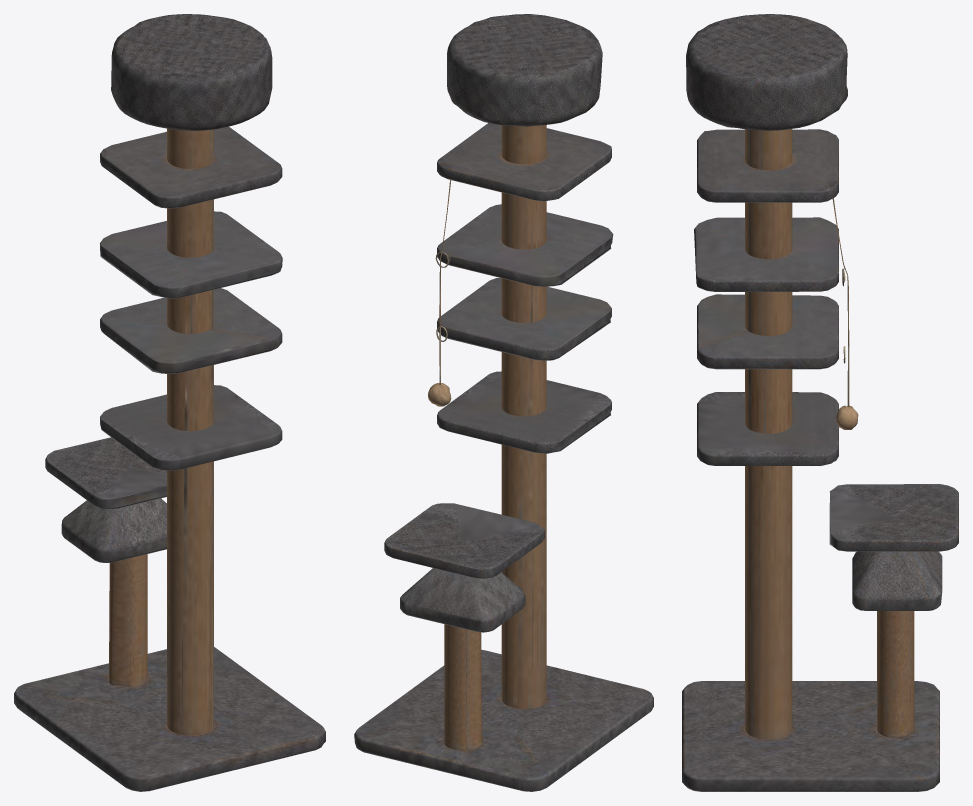
The model's file is office-cat-tree.glb.
The picture shows the model from 3 angles, left to right: view 1: azimuth 30°, elevation 25°; view 2: azimuth 150°, elevation 25°; view 3: azimuth 270°, elevation 25°; orthographic projection. The views are drawn at different scales.
Parts seen in each view (by area): view 1: cat-tree; view 2: cat-tree; view 3: cat-tree.
Boxes of the visible parts, box(x1,y1,x2,y2) form: cat-tree: box(14, 14, 325, 791); cat-tree: box(354, 14, 653, 791); cat-tree: box(682, 14, 958, 791).
Size of the model in its own units: 0.5403 by 1.8 by 0.6456.
Materials: 1 (1 with a texture image).
